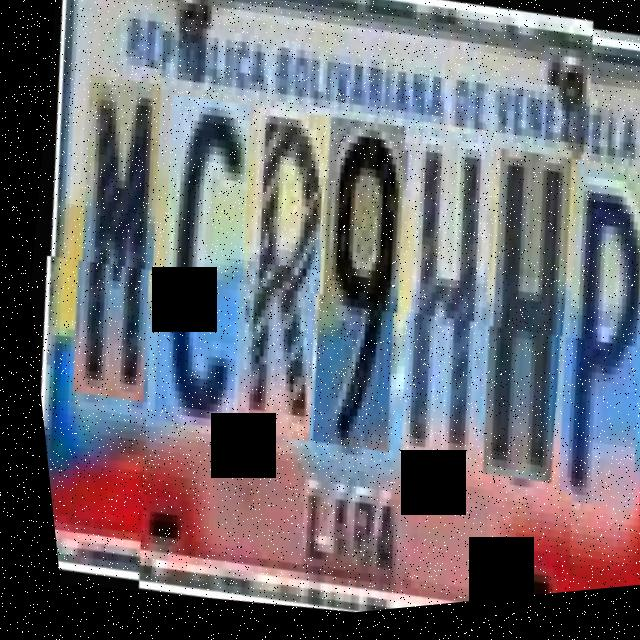9: (266, 114, 441, 462)
C: (106, 89, 285, 439)
H: (351, 128, 527, 483), (434, 148, 604, 495)
M: (26, 78, 194, 417)
P: (510, 160, 640, 515)
R: (188, 102, 363, 451)
